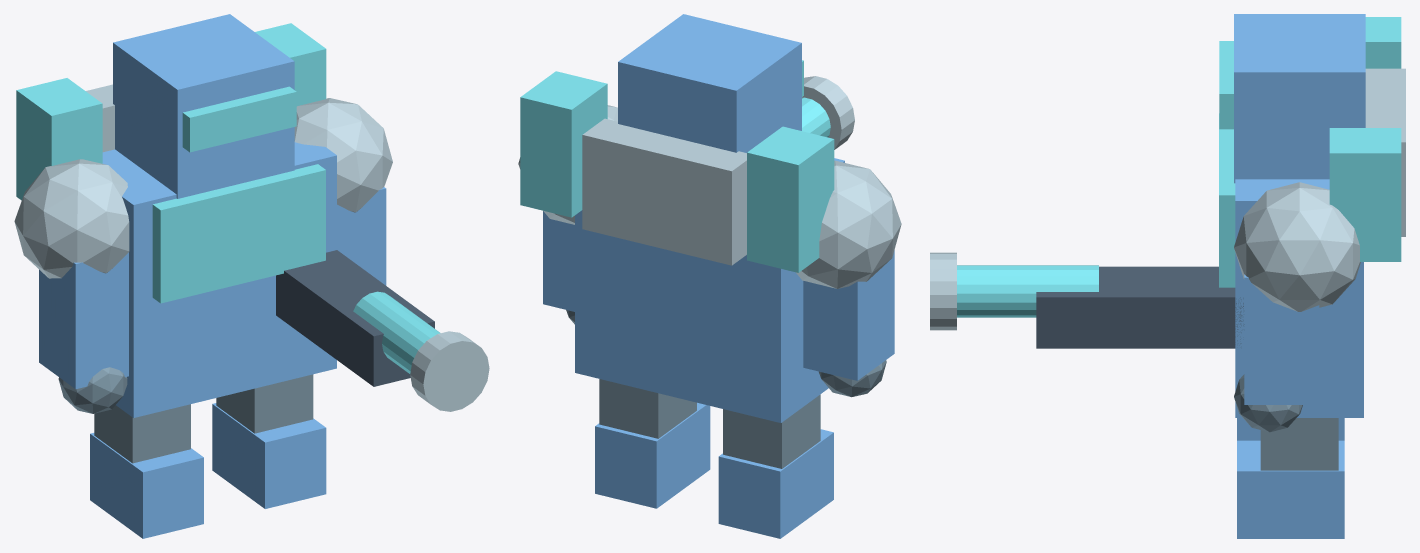
Rendered from cobalt_scout.glb.
The picture shows the model from 3 angles, left to right: view 1: azimuth 30°, elevation 25°; view 2: azimuth 150°, elevation 25°; view 3: azimuth 270°, elevation 25°; orthographic projection.
Parts seen in each view (by area): view 1: torso_4, helmet_6, chestplate_5, shoulder_joint_8, weapon_body_15, arm_armor_9, boots_2, boots_0, shoulder_thruster_18, shoulder_joint_11, weapon_muzzle_17, visor_7 (+7 smaller); view 2: torso_4, helmet_6, power_backpack_14, shoulder_thruster_18, shoulder_thruster_19, arm_armor_9, boots_0, boots_2, shoulder_joint_8, leg_armor_1, leg_armor_3, arm_armor_12 (+3 smaller); view 3: helmet_6, weapon_body_15, shoulder_joint_11, torso_4, shoulder_thruster_19, boots_2, arm_armor_12, energy_barrel_16, leg_armor_3, power_backpack_14, chestplate_5, weapon_muzzle_17 (+4 smaller).
Boxes of the visible parts, x1,y1,x2,y2 form: torso_4: [102, 142, 336, 417]; helmet_6: [113, 14, 294, 198]; chestplate_5: [152, 164, 325, 303]; shoulder_joint_8: [14, 159, 129, 278]; weapon_body_15: [276, 250, 434, 386]; arm_armor_9: [39, 252, 128, 389]; boots_2: [212, 403, 326, 508]; boots_0: [90, 433, 203, 538]; shoulder_thruster_18: [16, 78, 102, 200]; shoulder_joint_11: [294, 98, 392, 212]; weapon_muzzle_17: [410, 331, 489, 411]; visor_7: [182, 86, 296, 152]; torso_4: [575, 158, 844, 422]; helmet_6: [618, 14, 801, 152]; power_backpack_14: [582, 118, 746, 265]; shoulder_thruster_18: [747, 126, 834, 272]; shoulder_thruster_19: [520, 71, 607, 217]; arm_armor_9: [803, 250, 894, 380]; boots_0: [718, 429, 833, 538]; boots_2: [595, 402, 710, 508]; shoulder_joint_8: [796, 160, 901, 288]; leg_armor_1: [723, 394, 820, 468]; leg_armor_3: [599, 379, 696, 438]; arm_armor_12: [543, 211, 574, 311]; helmet_6: [1234, 14, 1365, 183]; weapon_body_15: [1036, 266, 1244, 348]; shoulder_joint_11: [1234, 182, 1360, 311]; torso_4: [1235, 179, 1363, 417]; shoulder_thruster_19: [1329, 128, 1401, 261]; boots_2: [1237, 440, 1344, 538]; arm_armor_12: [1244, 274, 1319, 404]; energy_barrel_16: [957, 265, 1098, 317]; leg_armor_3: [1260, 418, 1338, 470]; power_backpack_14: [1365, 68, 1405, 236]; chestplate_5: [1219, 113, 1235, 287]; weapon_muzzle_17: [930, 252, 956, 330].
Bounding box in the file's own units: 1.42 × 1.66 × 1.59.
